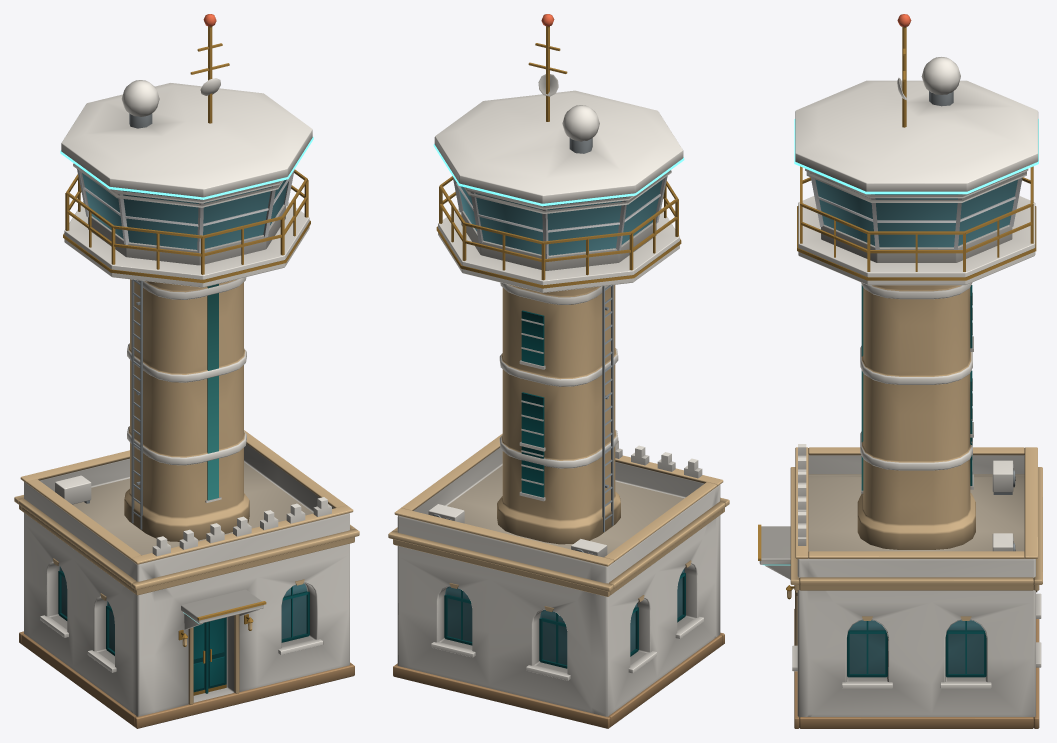
File: bldg_tower_control.fbx
3 views of the same model, side by side, from view 1: azimuth 30°, elevation 25°; view 2: azimuth 150°, elevation 25°; view 3: azimuth 270°, elevation 25° (orthographic). The views are drawn at different scales.
Visible parts, largest first — view 1: bldg_tower_control; view 2: bldg_tower_control; view 3: bldg_tower_control.
Boxes of the visible parts, x1,y1,x2,y2 form: bldg_tower_control: (14,14,359,728); bldg_tower_control: (388,14,729,728); bldg_tower_control: (758,14,1042,728).
Bounding box in the file's own units: 6.54 × 17.95 × 6.93.
